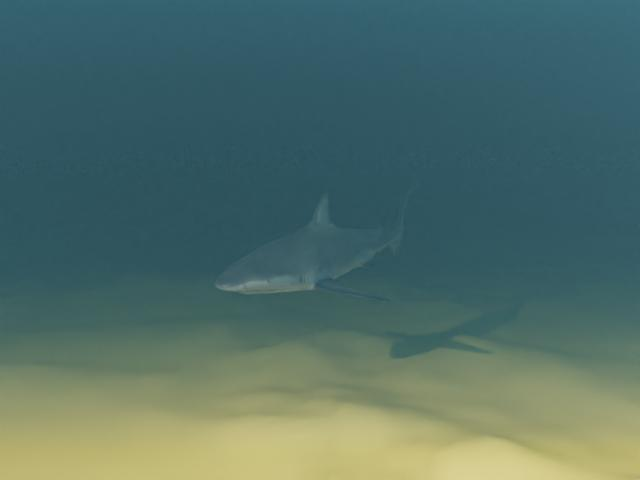Carribean Shark.001: (215, 178, 419, 301)
